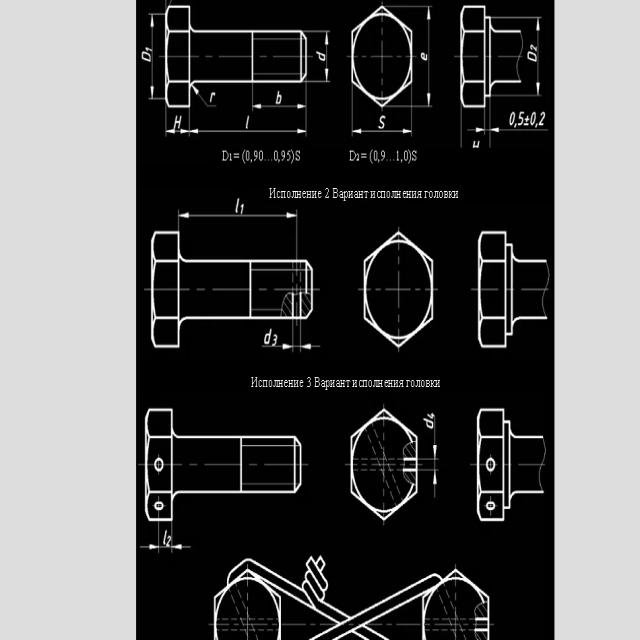marking_line: (192, 128, 306, 136), (426, 6, 434, 106), (180, 213, 296, 219), (149, 16, 156, 98), (536, 20, 541, 95), (489, 127, 551, 133), (324, 33, 331, 78), (354, 129, 412, 134), (254, 104, 304, 109), (432, 417, 437, 459), (262, 343, 292, 349), (463, 127, 486, 134), (302, 343, 321, 351), (173, 544, 191, 552), (140, 543, 158, 551), (166, 129, 189, 135), (431, 471, 436, 498)
numeric: (272, 149, 295, 165), (529, 109, 549, 127), (508, 108, 525, 127), (245, 149, 263, 163), (401, 149, 409, 164), (395, 149, 400, 165), (373, 149, 378, 163), (380, 150, 385, 164)
special_symbol: (193, 85, 216, 109)
